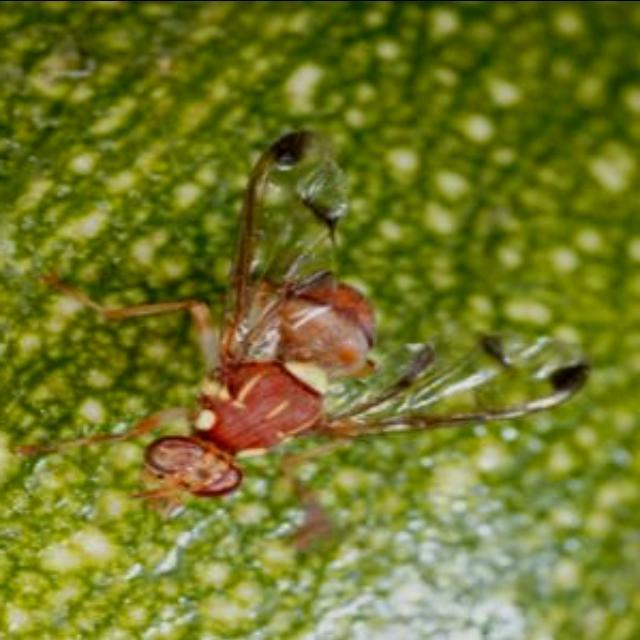melon fly: (42, 86, 618, 580)
